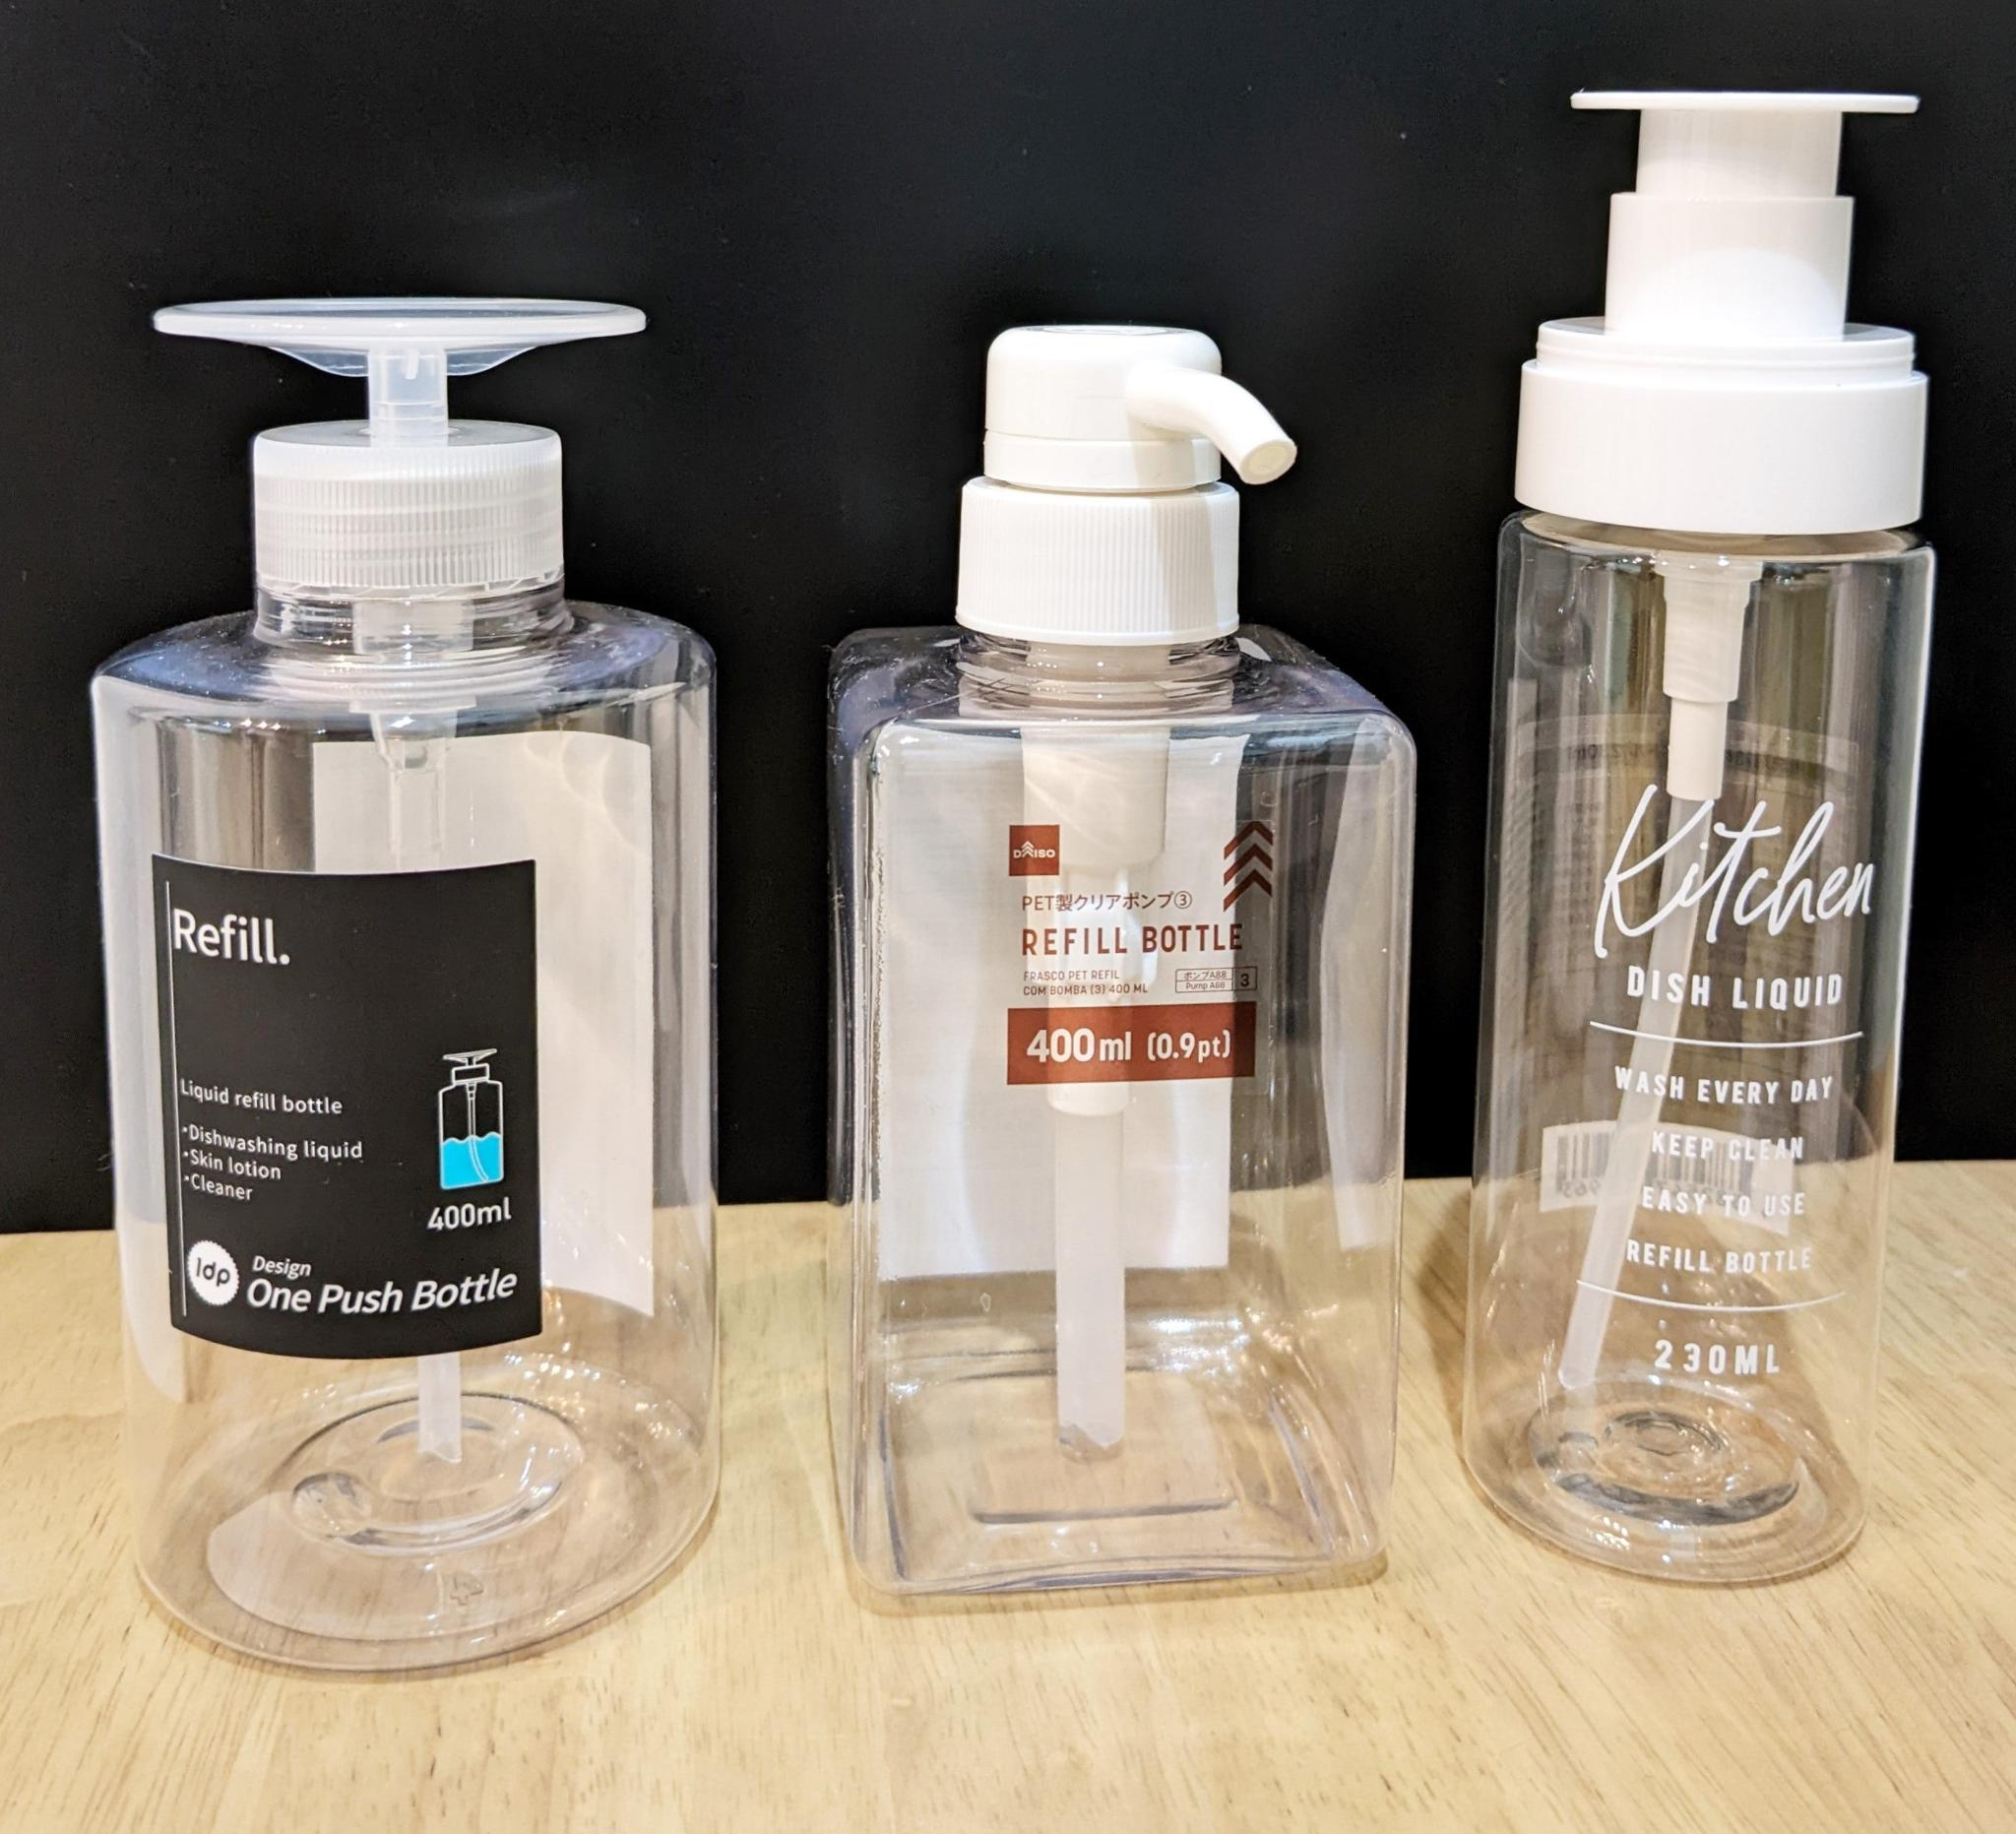plastic: (93, 300, 718, 1672), (831, 325, 1412, 1595), (1465, 93, 1932, 1583)
